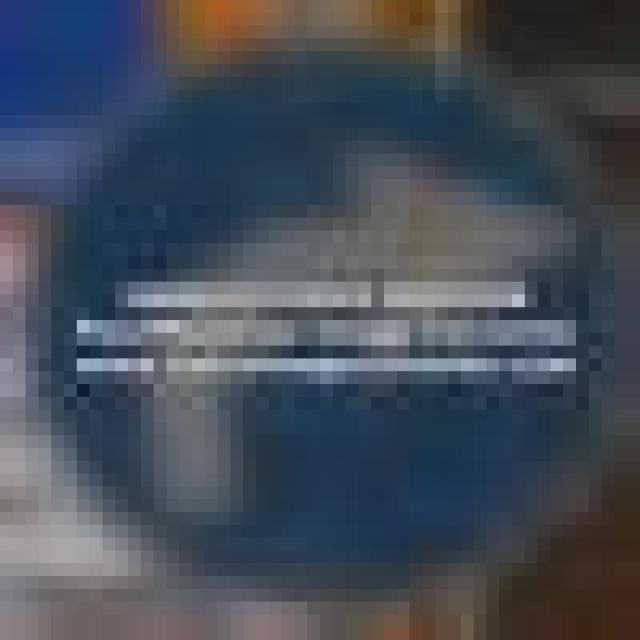TURN_RIGHT: (26, 39, 588, 564)
